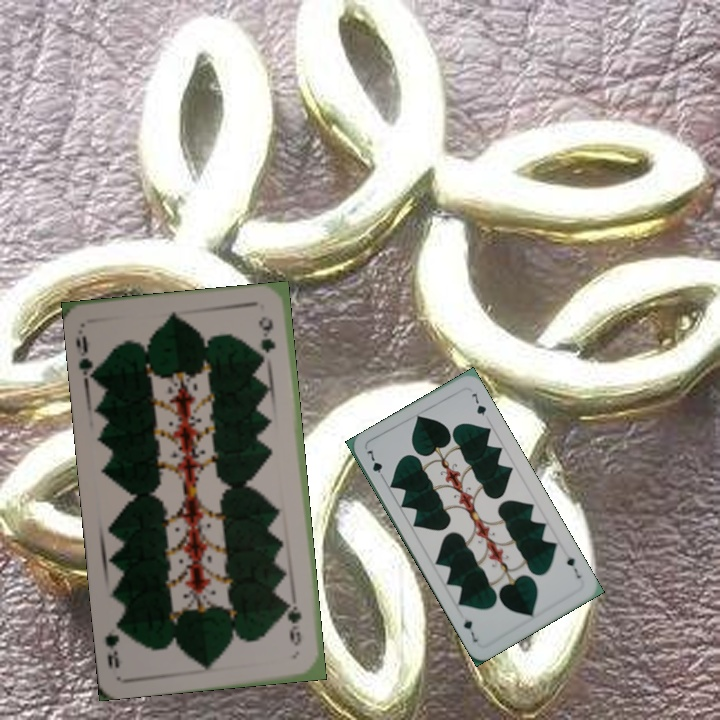G7: (363, 446, 386, 483), (562, 548, 584, 581)
G9: (72, 331, 101, 385), (283, 597, 304, 649)
